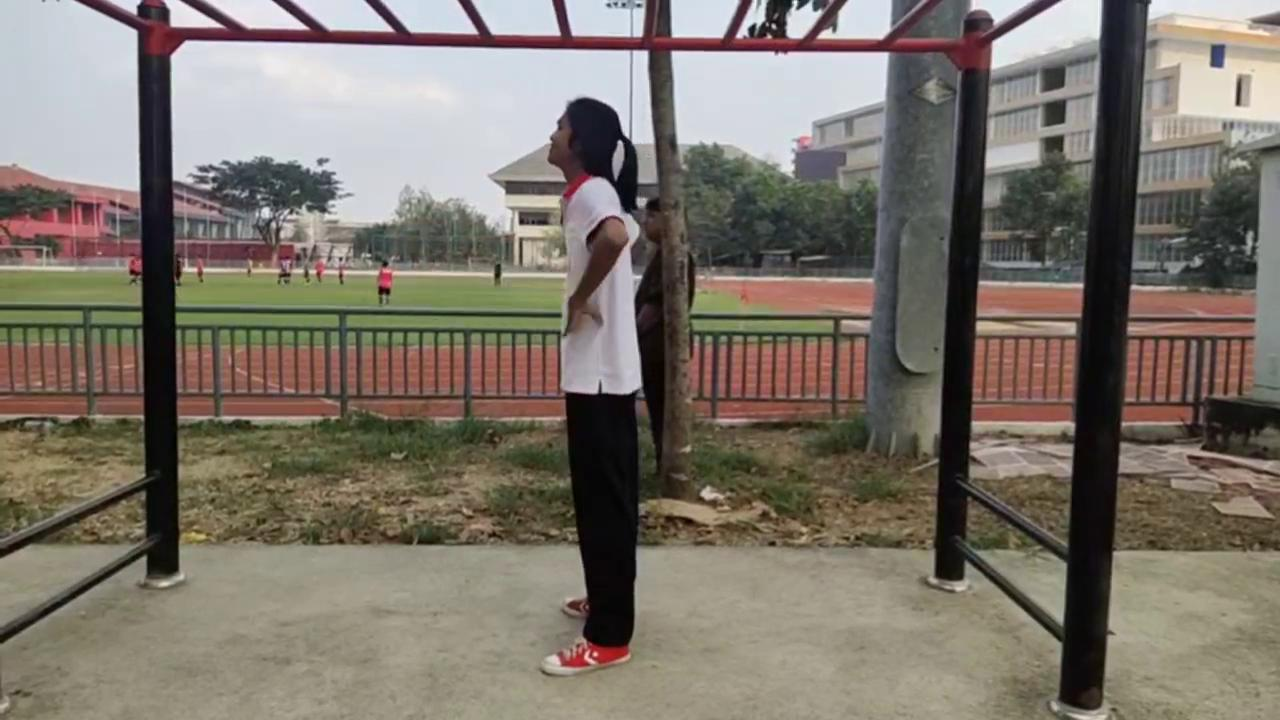squat up: (543, 99, 657, 676)
